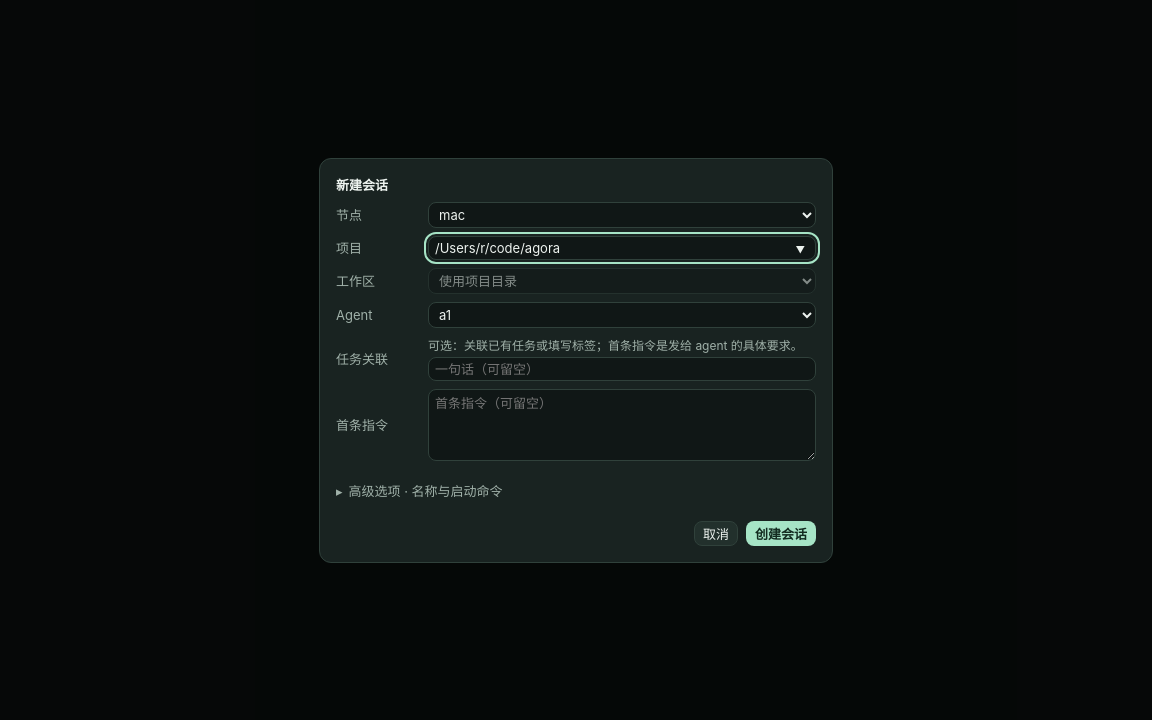
Test: custom needs a command before Create is enabled
The width and height of the screenshot is (1152, 720).
Select "custom" in the dropdown with id "na-agent" at (622, 314), box [428,302,816,328]
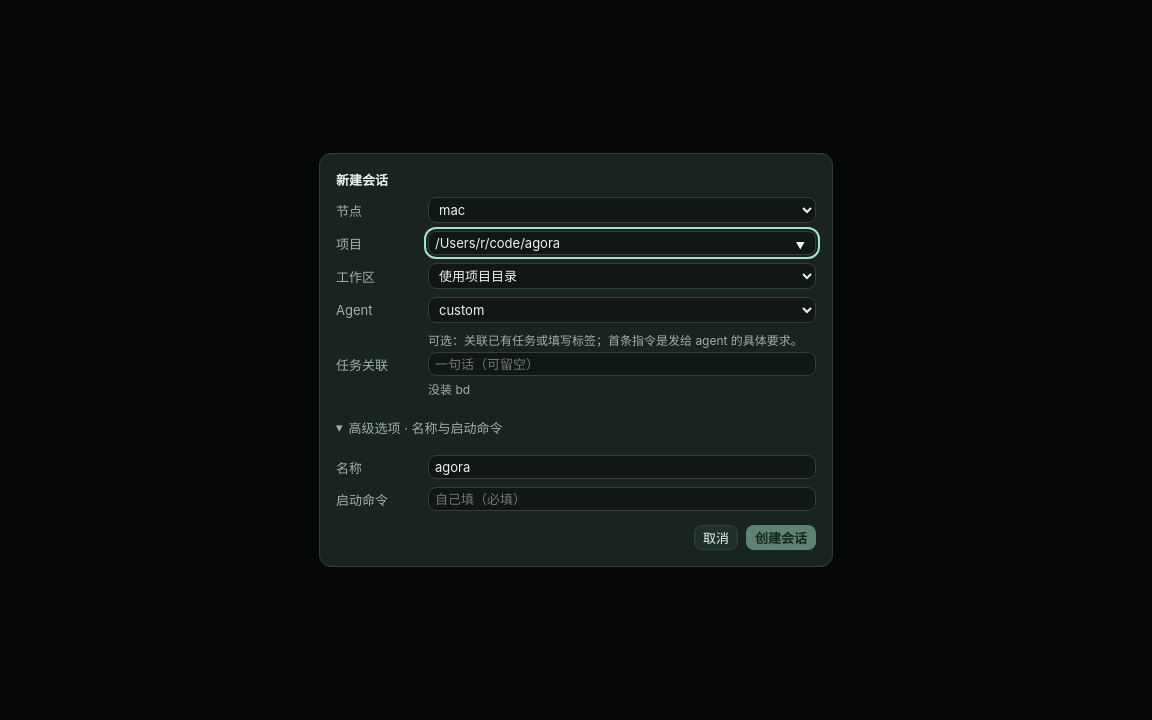
expect the field with id "na-command" is empty: met
expect the button with test id "create" is disabled: met, box [746,525,816,550]
Type "my-agent" into the field with id "na-command" at (622, 499), box [428,487,816,511]
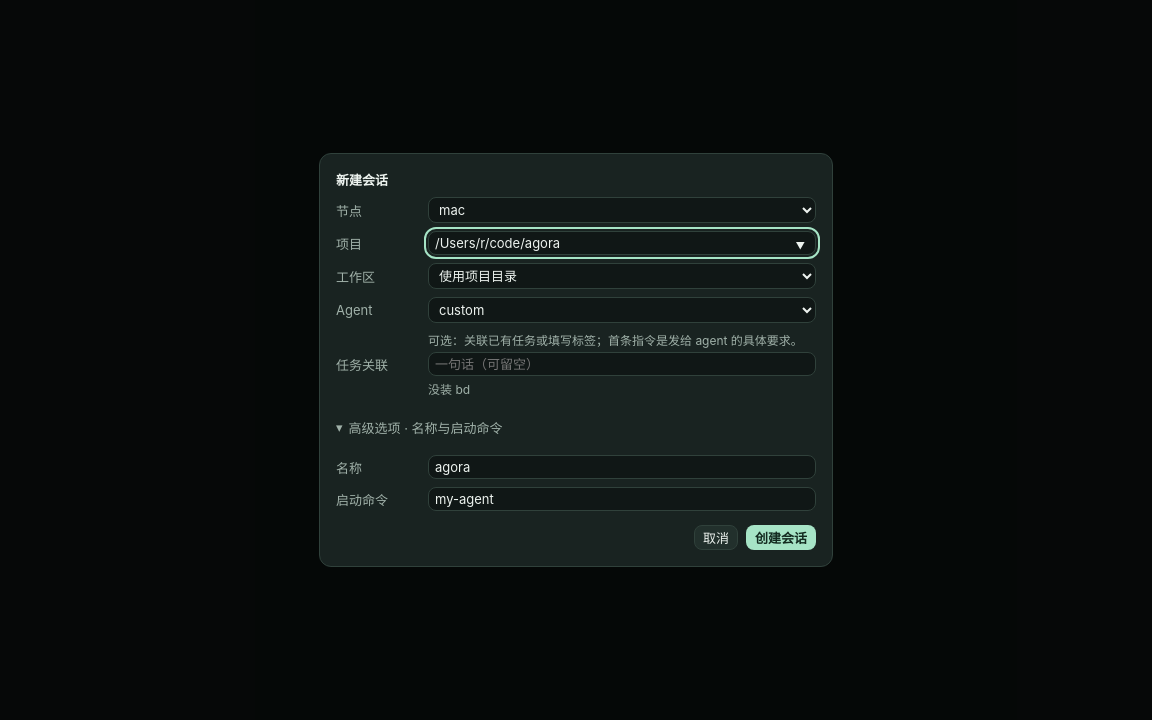
expect the button with test id "create" is enabled: met, box [746,525,816,550]
